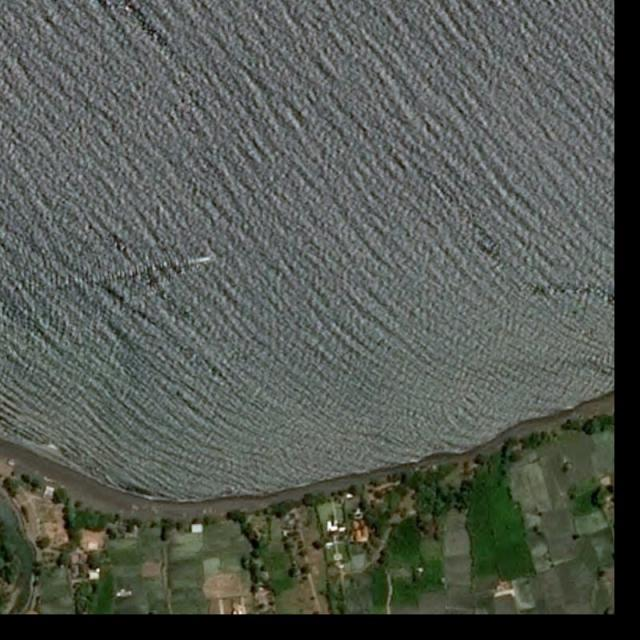ship: (206, 254, 218, 263)
